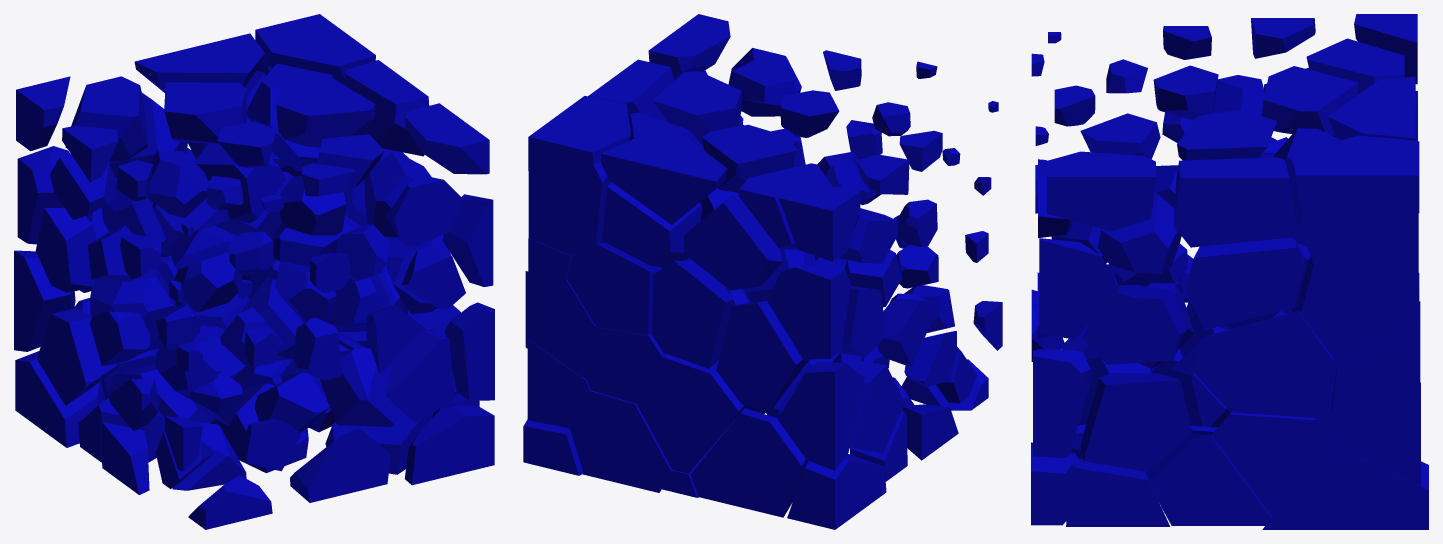
The model's file is Vernoid Cube.glb.
The picture shows the model from 3 angles, left to right: view 1: azimuth 30°, elevation 25°; view 2: azimuth 150°, elevation 25°; view 3: azimuth 270°, elevation 25°; orthographic projection. The views are drawn at different scales.
Parts seen in each view (by area): view 1: mesh_mm92, mesh_mm75, mesh_mm7, mesh_mm57, mesh_mm22, mesh_mm72, mesh_mm49, mesh_mm46, mesh_mm67, mesh_mm79, mesh_mm97, mesh_mm84 (+67 smaller); view 2: mesh_mm63, mesh_mm56, mesh_mm50, mesh_mm72, mesh_mm90, mesh_mm28, mesh_mm94, mesh_mm45, mesh_mm27, mesh_mm78, mesh_mm15, mesh_mm7 (+41 smaller); view 3: mesh_mm37, mesh_mm7, mesh_mm67, mesh_mm96, mesh_mm53, mesh_mm76, mesh_mm18, mesh_mm86, mesh_mm84, mesh_mm13, mesh_mm100, mesh_mm10 (+31 smaller).
Boxes of the visible parts, <box> form: mesh_mm92: <box>404,405,494,485</box>; mesh_mm75: <box>276,78,375,147</box>; mesh_mm7: <box>255,14,375,86</box>; mesh_mm57: <box>290,428,390,502</box>; mesh_mm22: <box>386,330,454,422</box>; mesh_mm72: <box>134,33,264,92</box>; mesh_mm49: <box>37,308,119,405</box>; mesh_mm46: <box>164,82,246,143</box>; mesh_mm67: <box>345,60,429,156</box>; mesh_mm79: <box>320,348,401,426</box>; mesh_mm97: <box>15,351,105,447</box>; mesh_mm84: <box>405,103,489,174</box>; mesh_mm63: <box>690,408,808,517</box>; mesh_mm56: <box>636,353,743,473</box>; mesh_mm50: <box>562,388,672,492</box>; mesh_mm72: <box>601,134,727,224</box>; mesh_mm90: <box>651,260,734,368</box>; mesh_mm28: <box>716,301,808,412</box>; mesh_mm94: <box>528,162,610,255</box>; mesh_mm45: <box>778,362,864,470</box>; mesh_mm27: <box>567,243,662,335</box>; mesh_mm78: <box>767,263,850,359</box>; mesh_mm15: <box>684,195,782,290</box>; mesh_mm7: <box>528,96,631,170</box>; mesh_mm37: <box>1193,311,1338,417</box>; mesh_mm7: <box>1290,135,1419,242</box>; mesh_mm67: <box>1173,157,1297,247</box>; mesh_mm96: <box>1262,442,1428,529</box>; mesh_mm53: <box>1080,372,1192,471</box>; mesh_mm76: <box>1185,237,1304,329</box>; mesh_mm18: <box>1296,257,1419,367</box>; mesh_mm86: <box>1145,434,1271,525</box>; mesh_mm84: <box>1047,151,1156,231</box>; mesh_mm13: <box>1212,412,1317,515</box>; mesh_mm100: <box>1083,285,1185,364</box>; mesh_mm10: <box>1039,238,1118,339</box>.
Size of the model in its own units: 50.36 by 50.53 by 51.3.
